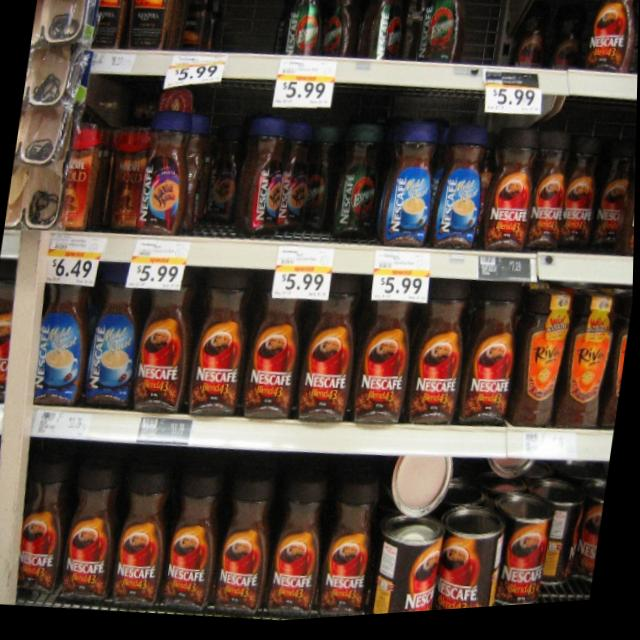q13: (118, 281, 198, 418), (213, 479, 282, 618), (294, 294, 366, 426), (11, 462, 77, 605), (315, 490, 383, 623), (186, 283, 254, 415), (407, 296, 473, 430), (264, 490, 329, 626), (57, 473, 124, 603), (458, 306, 522, 442), (240, 292, 304, 426), (355, 295, 421, 414), (113, 478, 174, 601), (165, 492, 226, 609), (485, 148, 544, 260), (526, 133, 576, 262), (573, 0, 639, 92), (556, 145, 604, 257), (390, 303, 418, 405)
